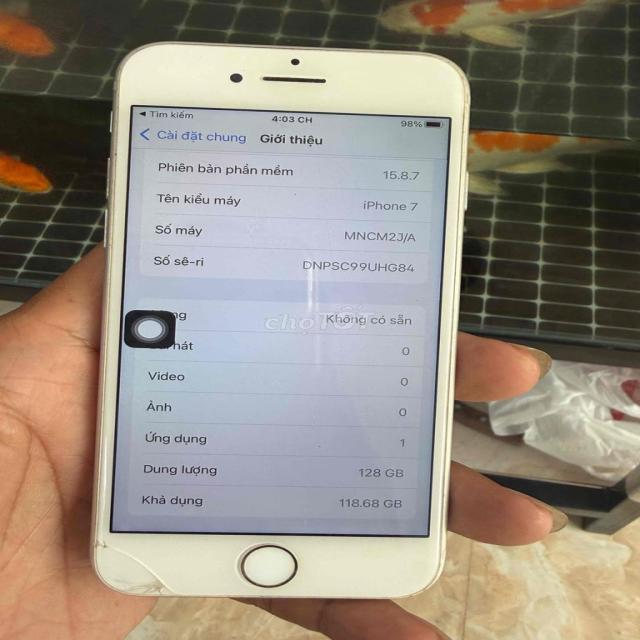gen_7_8: (89, 36, 475, 598)
